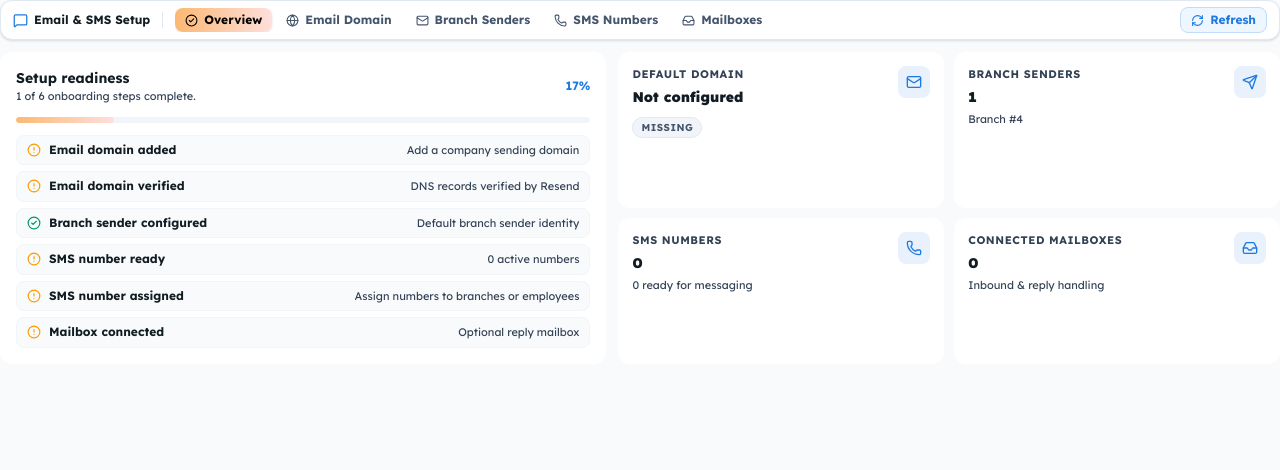
it: discards an older branch response instead of showing the wrong emails
Step 1. Click the button "Branch Senders" → (473, 20), box [406,8,540,32]
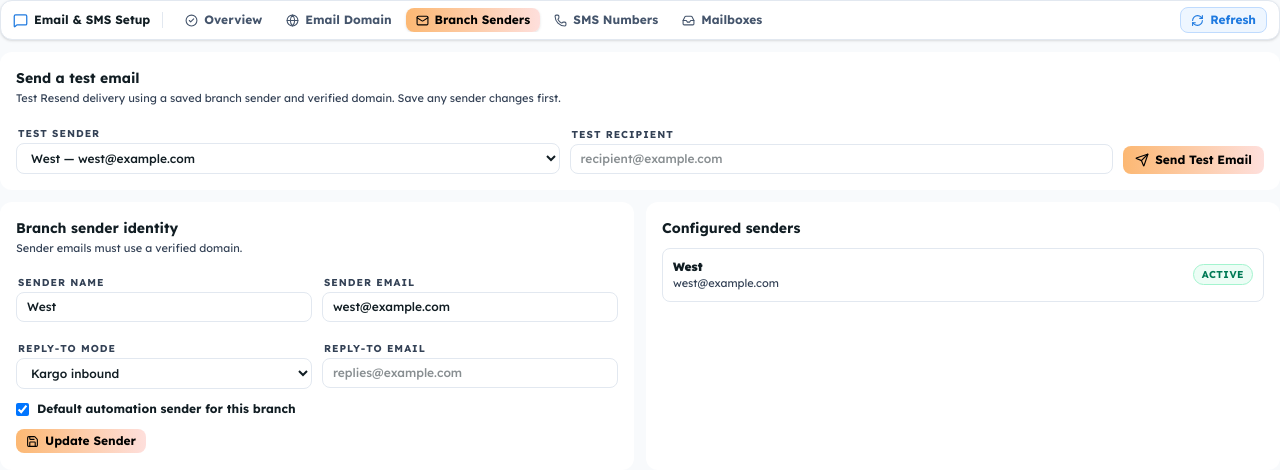
Now the dropdown labelled "Test sender" shows "West — west@example.com", box [16,142,560,174]
